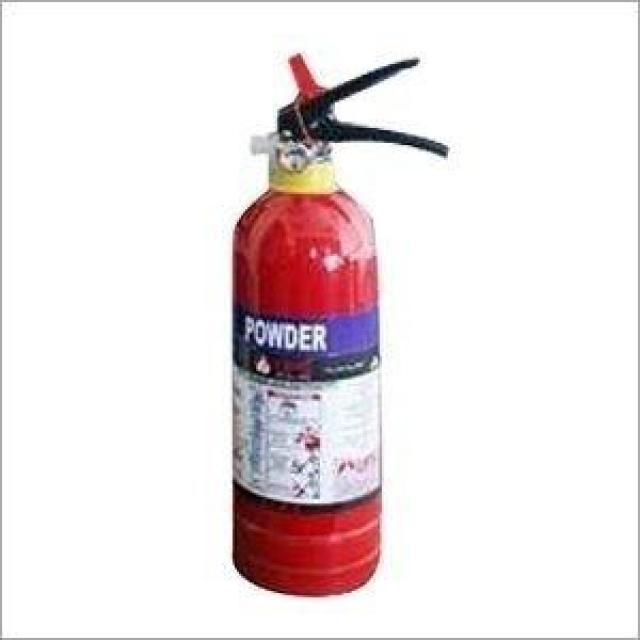fire_extinguisher: (224, 47, 454, 597)
